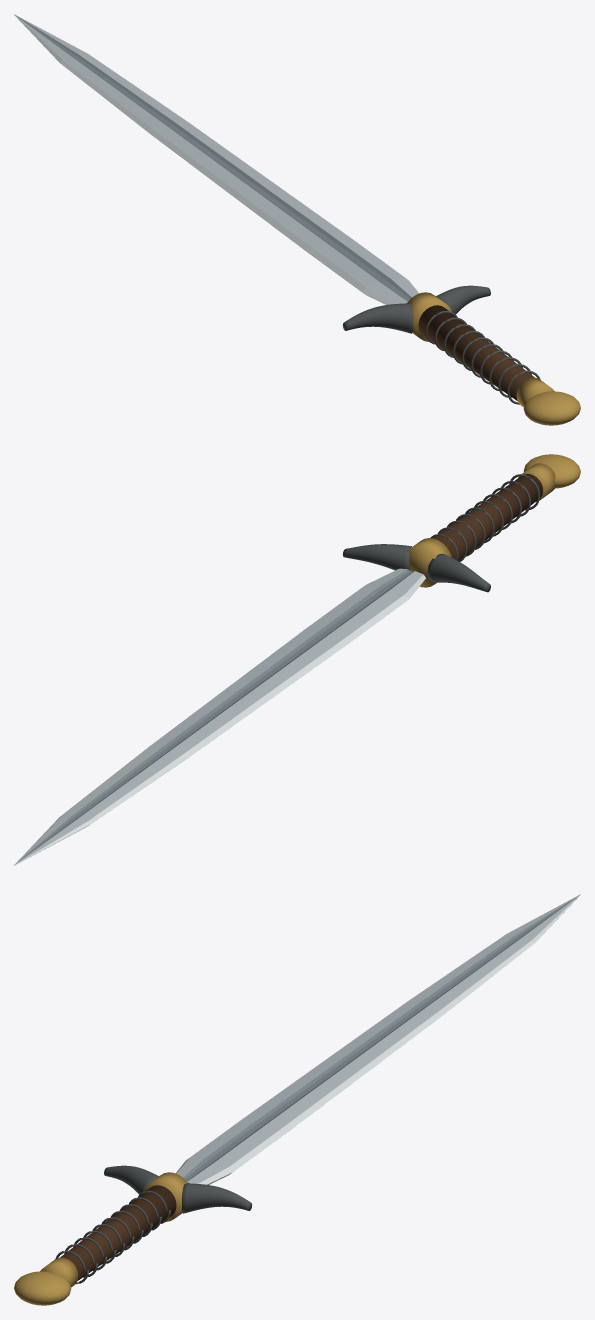
The model's file is wayfarer.glb.
The picture shows the model from 3 angles, top to bottom: view 1: azimuth 30°, elevation 25°; view 2: azimuth 150°, elevation 25°; view 3: azimuth 330°, elevation 25°; orthographic projection.
Parts seen in each view (by area): view 1: Forged_wayfarer; view 2: Forged_wayfarer; view 3: Forged_wayfarer.
Boxes of the visible parts, x1,y1,x2,y2 form: Forged_wayfarer: (14,14,580,425); Forged_wayfarer: (14,454,580,865); Forged_wayfarer: (14,894,580,1305).
Bounding box in the file's own units: 0.2062 × 0.054 × 1.37.
